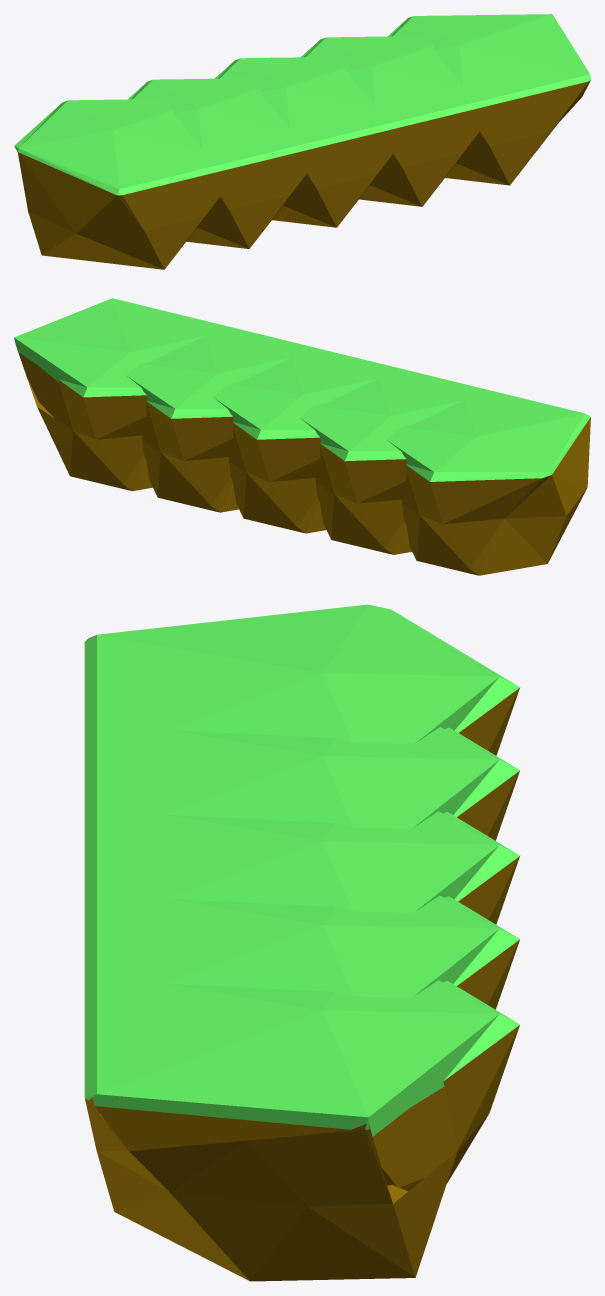
File: med Tile.FBX
3 renders of one model, top to bottom at view 1: azimuth 30°, elevation 25°; view 2: azimuth 150°, elevation 25°; view 3: azimuth 270°, elevation 25°, orthographic. The views are drawn at different scales.
Visible parts, largest first — view 1: Land001, Land005, Land003, Land002, Land004; view 2: Land001, Land005, Land004, Land003, Land002; view 3: Land005, Land001, Land002, Land004, Land003.
Part boxes in pixels (x1,y1,x2,y2): Land001: [14, 99, 244, 269]; Land005: [387, 14, 590, 185]; Land003: [215, 57, 416, 227]; Land002: [128, 78, 329, 248]; Land004: [301, 36, 502, 206]; Land001: [386, 384, 590, 575]; Land005: [14, 298, 233, 491]; Land004: [126, 320, 324, 512]; Land003: [213, 341, 380, 533]; Land002: [300, 362, 466, 554]; Land005: [84, 972, 519, 1281]; Land001: [84, 604, 519, 760]; Land002: [84, 718, 519, 843]; Land004: [84, 888, 519, 1185]; Land003: [84, 804, 519, 928].
Bounding box in the file's own units: 437 × 90.44 × 153.
